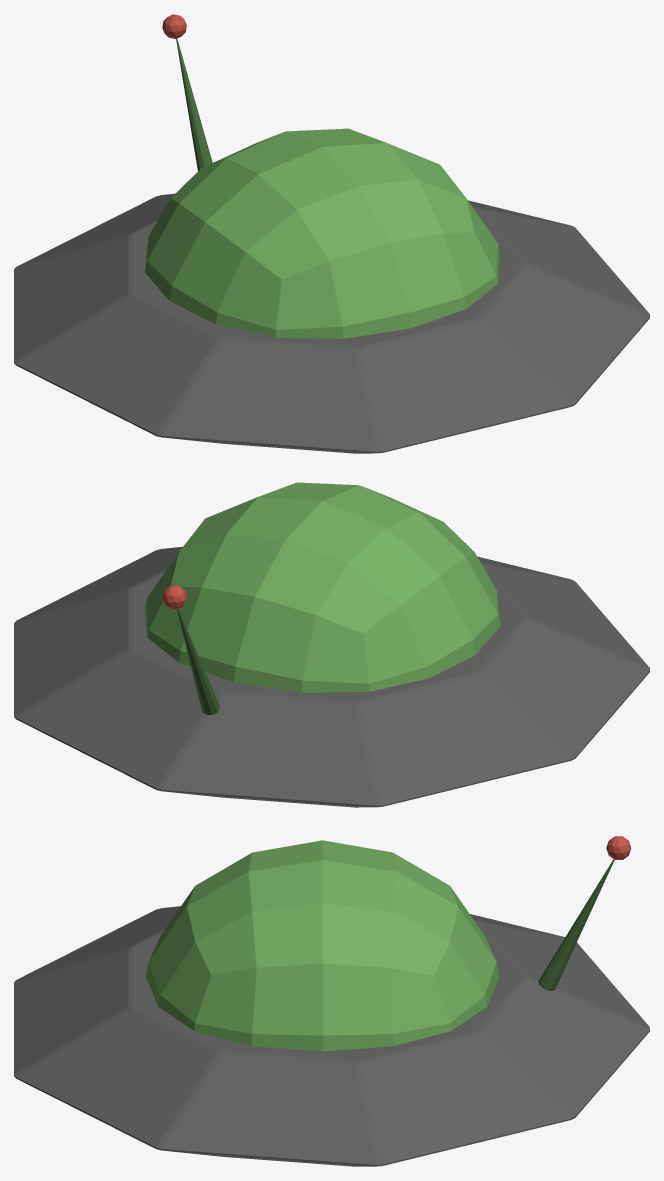
File: enemy03-01.fbx
The picture shows the model from 3 angles, top to bottom: view 1: azimuth 30°, elevation 25°; view 2: azimuth 150°, elevation 25°; view 3: azimuth 270°, elevation 25°; orthographic projection.
Visible parts, largest first — view 1: enemy03-01; view 2: enemy03-01; view 3: enemy03-01.
Boxes of the visible parts, x1,y1,x2,y2 form: enemy03-01: [14, 14, 649, 453]; enemy03-01: [14, 482, 649, 807]; enemy03-01: [14, 836, 649, 1166].
Size of the model in its own units: 196 by 81.87 by 193.
